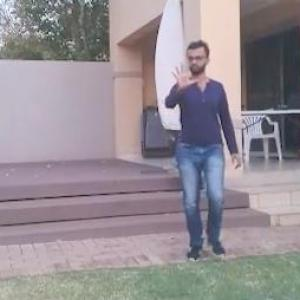follow_hand: (163, 53, 200, 93)
